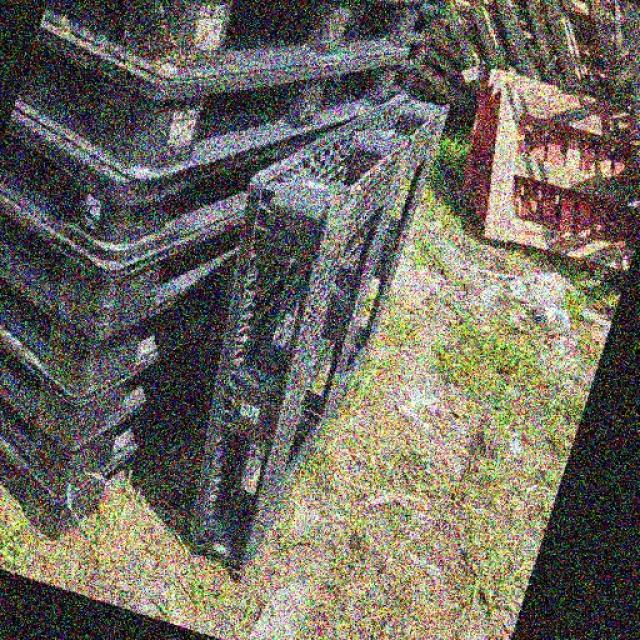non-igps: (178, 84, 514, 588), (6, 19, 440, 196), (0, 82, 399, 272), (0, 182, 260, 350), (0, 240, 258, 408), (454, 62, 639, 284), (30, 0, 455, 93), (0, 392, 248, 546), (0, 360, 238, 506), (0, 319, 246, 459)
